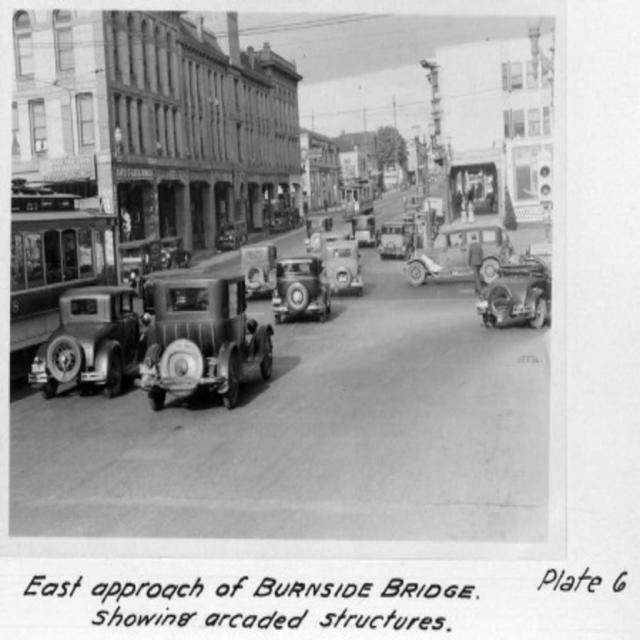car: (135, 268, 285, 407), (31, 283, 148, 395), (464, 236, 545, 328), (402, 222, 513, 286), (270, 257, 336, 325), (237, 243, 288, 300), (313, 241, 366, 294), (378, 223, 411, 263), (217, 218, 249, 243)
